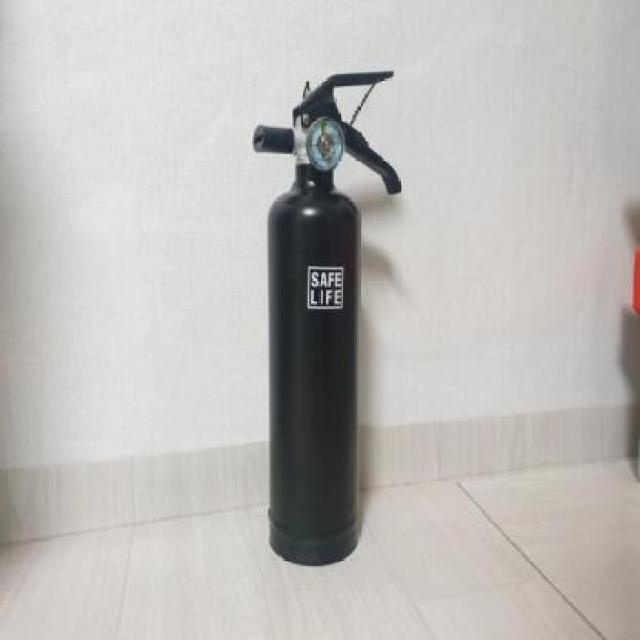fire extinguisher: (253, 69, 402, 568)
